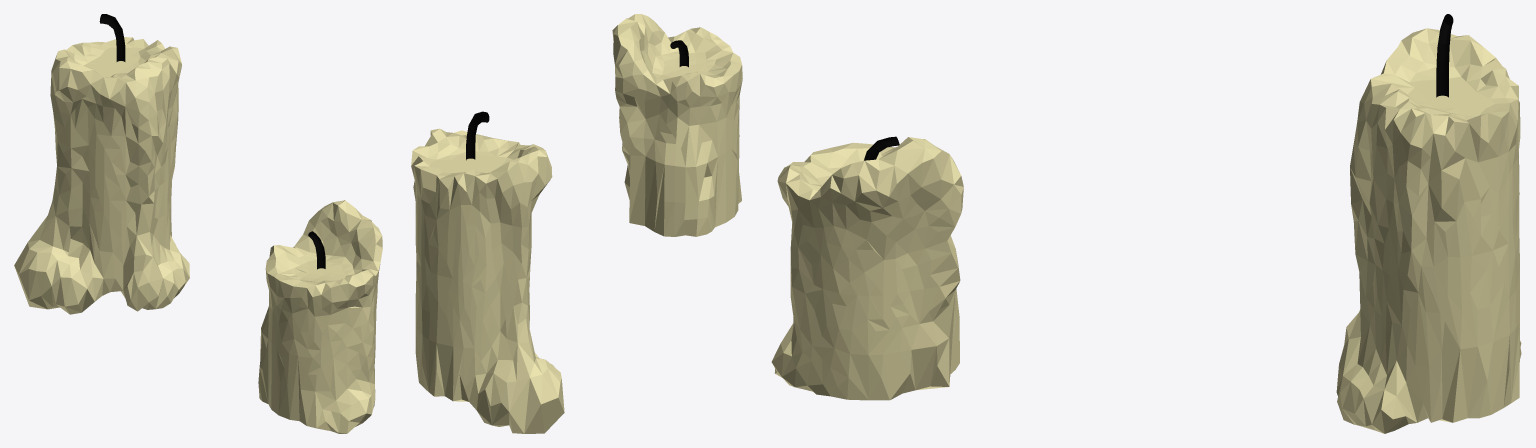
File: Candles.fbx
The picture shows the model from 3 angles, left to right: view 1: azimuth 30°, elevation 25°; view 2: azimuth 150°, elevation 25°; view 3: azimuth 270°, elevation 25°; orthographic projection. The views are drawn at different scales.
Parts seen in each view (by area): view 1: Cylinder.003, Cylinder; view 2: Cylinder.003, Cylinder; view 3: Cylinder.003, Cylinder.
Boxes of the visible parts, box(x1,y1,x2,y2) form: Cylinder.003: box(14, 14, 189, 314); Cylinder: box(258, 200, 382, 433); Cylinder.003: box(411, 111, 564, 433); Cylinder: box(612, 14, 742, 236); Cylinder.003: box(1336, 14, 1521, 433); Cylinder: box(771, 136, 963, 400).
Bounding box in the file's own units: 3.27 × 5.93 × 9.97.
